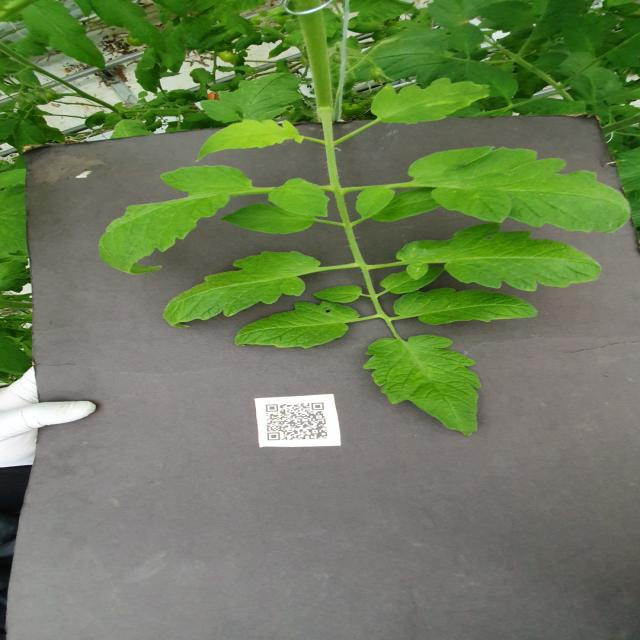Healthy Leaf: (407, 146, 634, 235), (99, 165, 255, 277), (396, 223, 605, 293), (361, 335, 484, 439), (163, 251, 323, 329), (233, 301, 359, 351), (370, 77, 494, 127), (20, 2, 108, 72), (393, 288, 541, 328), (195, 120, 303, 163), (220, 203, 318, 237), (268, 179, 332, 220), (380, 267, 446, 296), (354, 187, 396, 221), (445, 22, 486, 54), (312, 285, 363, 305)
